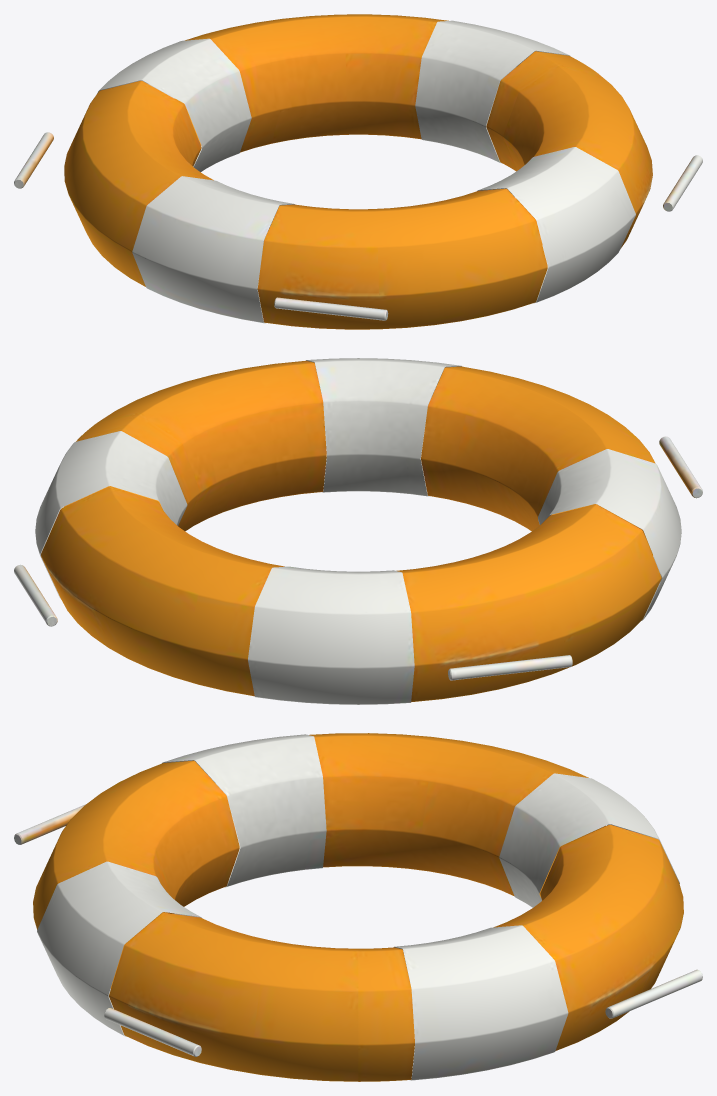
Rendered from LV_lifebuoy.glb.
3 views of the same model, one above another, from view 1: azimuth 30°, elevation 25°; view 2: azimuth 150°, elevation 25°; view 3: azimuth 270°, elevation 25° (orthographic). The views are drawn at different scales.
Visible parts, largest first — view 1: LV_lifebuoy; view 2: LV_lifebuoy; view 3: LV_lifebuoy.
Boxes of the visible parts, x1,y1,x2,y2 form: LV_lifebuoy: (14, 14, 702, 329); LV_lifebuoy: (14, 358, 702, 704); LV_lifebuoy: (14, 733, 702, 1081).
Size of the model in its own units: 0.9722 by 0.2009 by 0.9722.
Materials: 1 (1 with a texture image).
